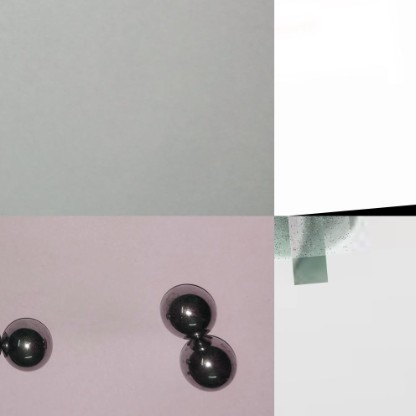ironball: (174, 331, 239, 392), (159, 283, 220, 339), (0, 315, 53, 371)
